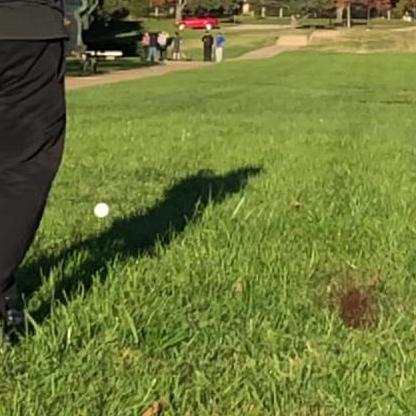golfball: (91, 200, 108, 217)
